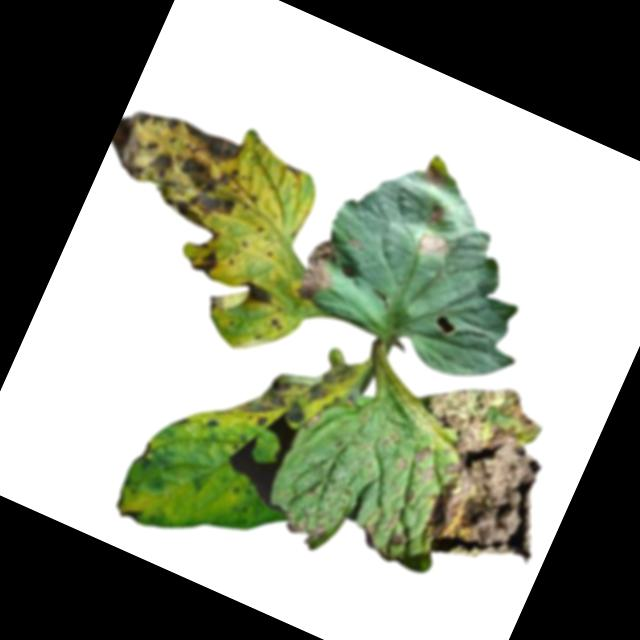Early_blight: (375, 357, 592, 589), (94, 96, 259, 241), (235, 329, 359, 449), (289, 234, 347, 309), (280, 507, 335, 555), (411, 227, 452, 266), (188, 243, 226, 280), (236, 277, 276, 309), (418, 160, 450, 191), (422, 200, 447, 229), (117, 504, 142, 527), (263, 317, 284, 337), (251, 413, 269, 430)
